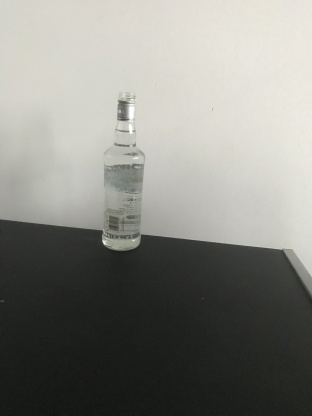nakretka: (115, 88, 137, 122)
